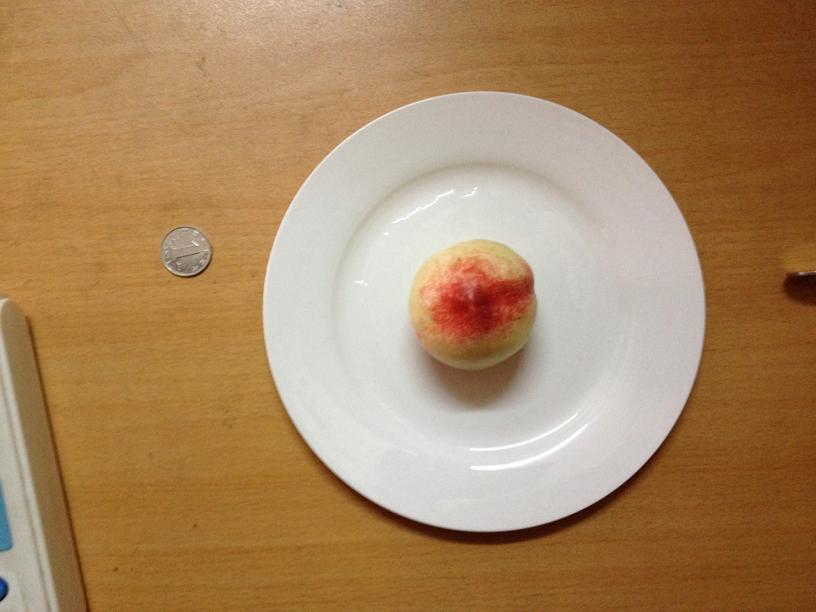coin: (156, 227, 212, 278)
peach: (414, 241, 535, 372)
